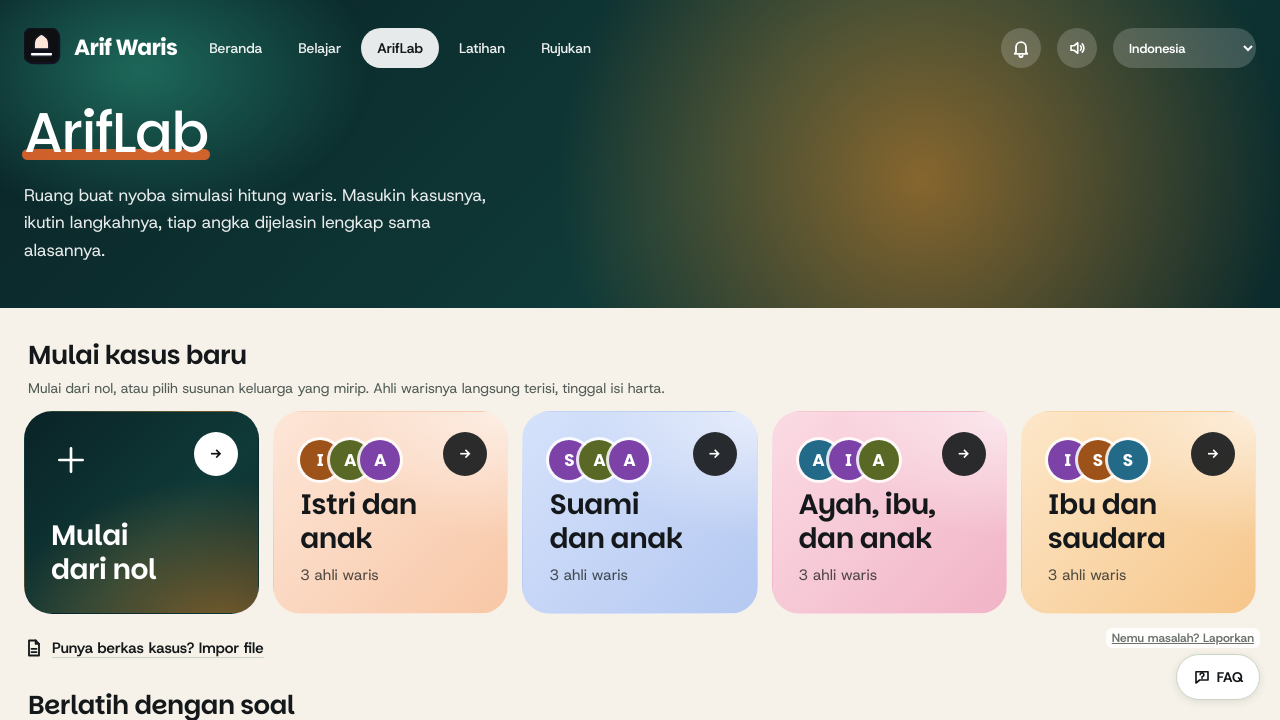
Test: tombol lanjut nonaktif dengan alasan tertulis
Click the button "→ Mulai dari nol": x=142, y=512 24,411 -> 259,614
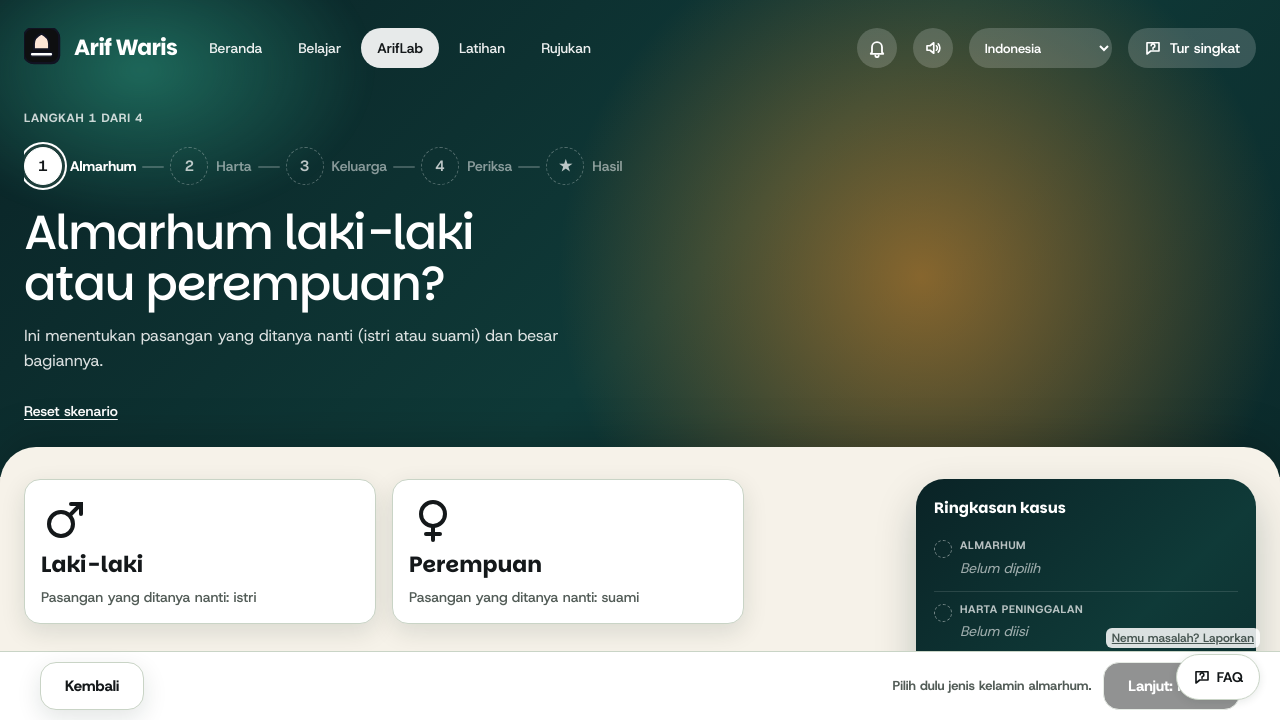
Expected: the button "Lanjut: Harta" is disabled, 1103,662 -> 1240,710
Expected: the text "Pilih dulu jenis kelamin almarhum." is shown, 893,673 -> 1091,699
Click the radio button labelled "Perempuan Pasangan yang ditanya nanti: suami": x=433, y=520 392,479 -> 744,624
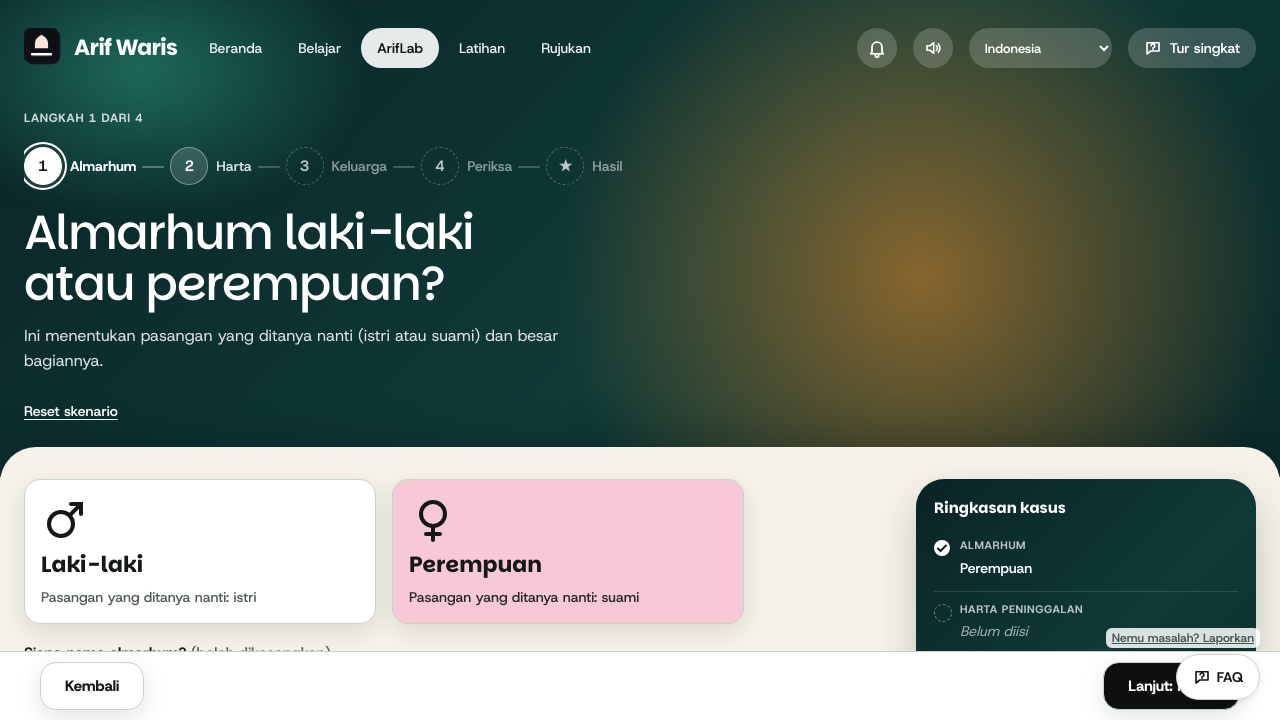
Expected: the button "Lanjut: Harta" is enabled, 1103,662 -> 1240,710
